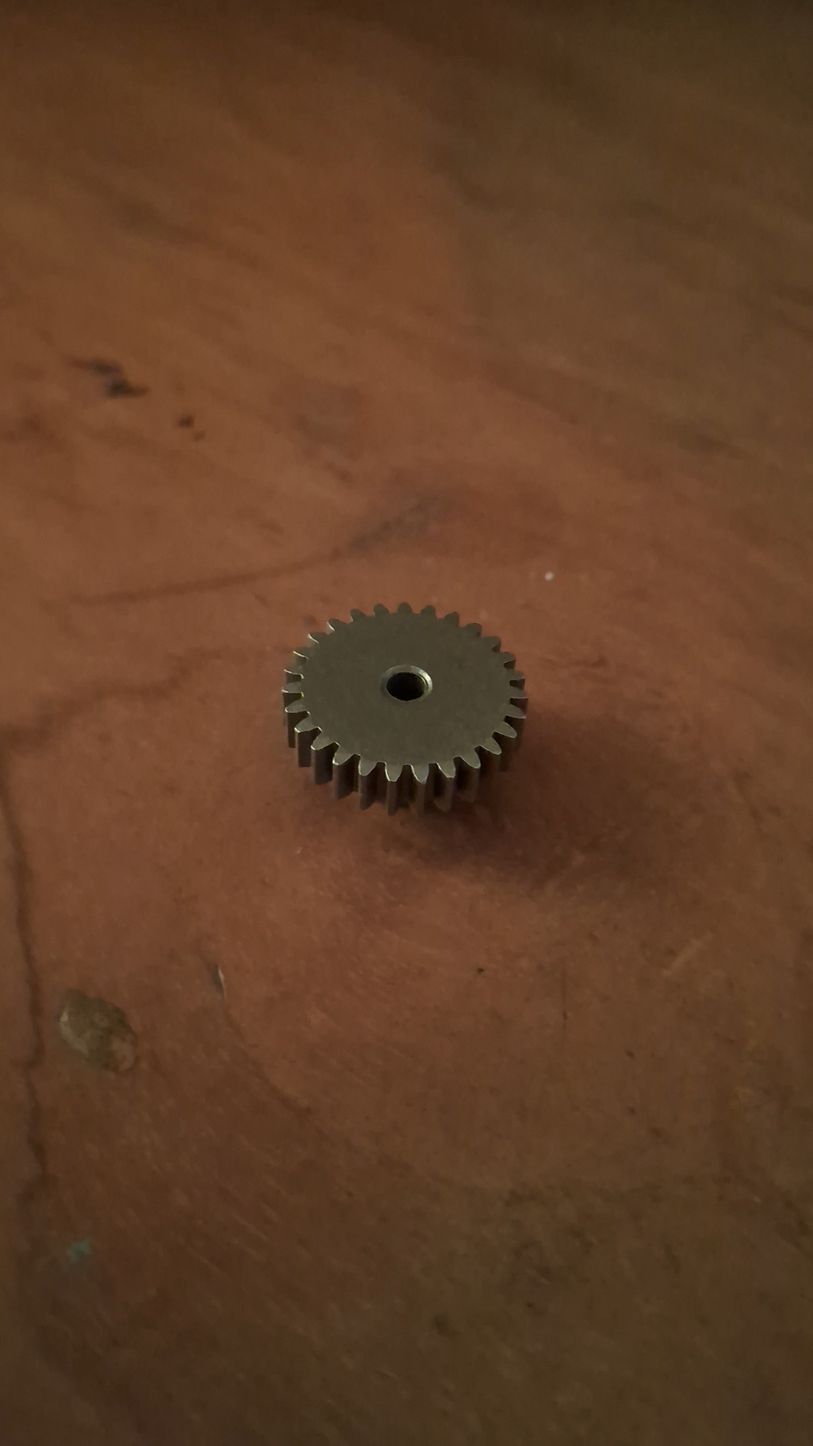spur gear: (283, 604, 526, 813)
